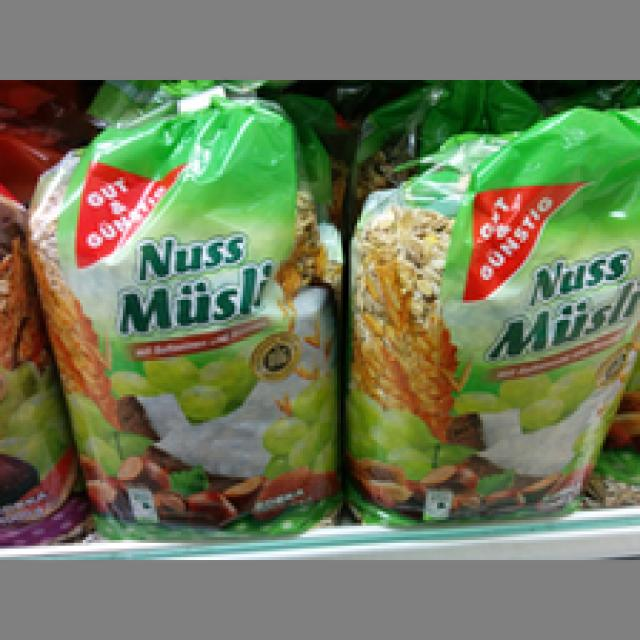groceries: (26, 92, 340, 537), (343, 111, 637, 520)
